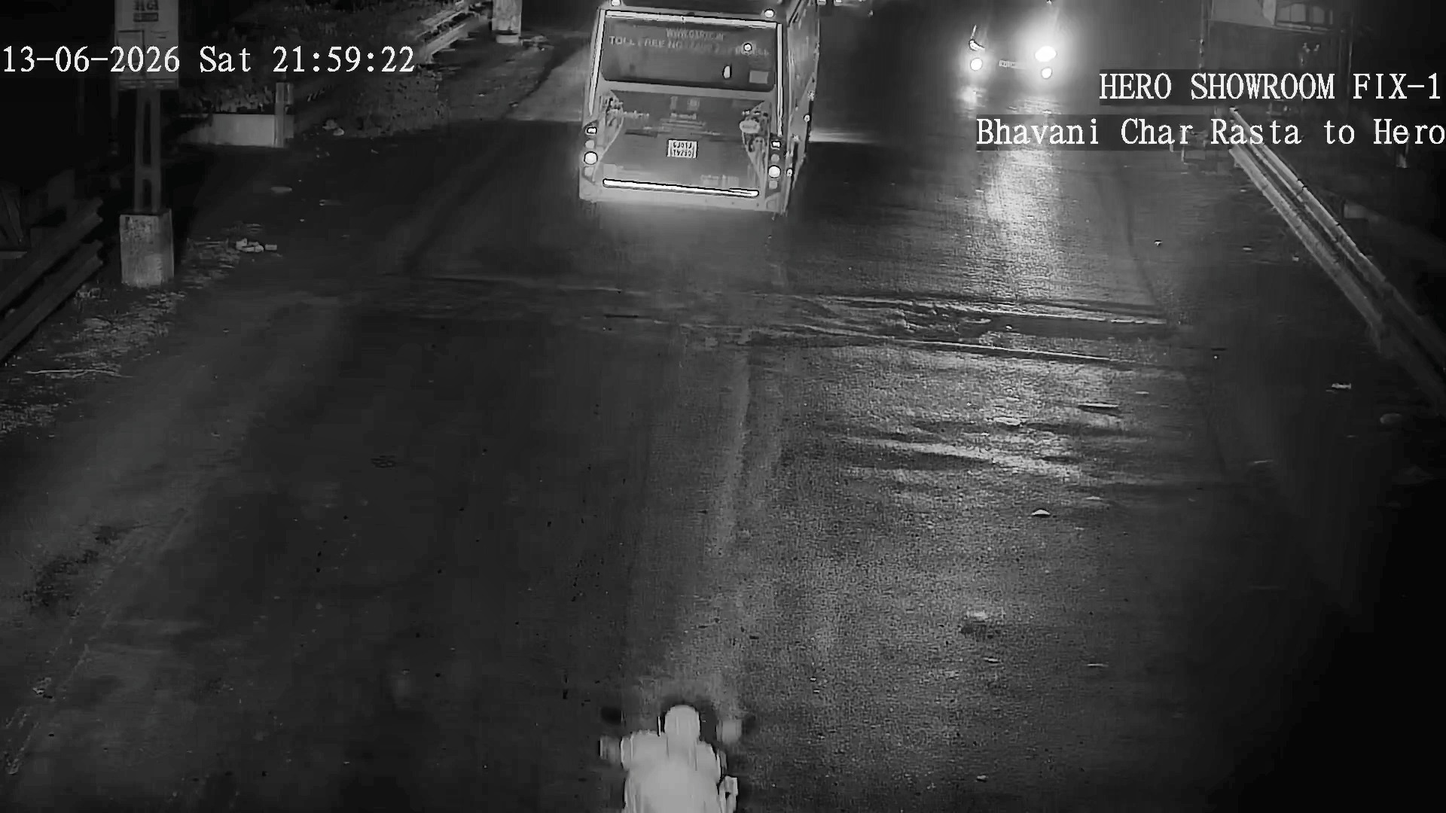truck: (566, 0, 829, 213)
